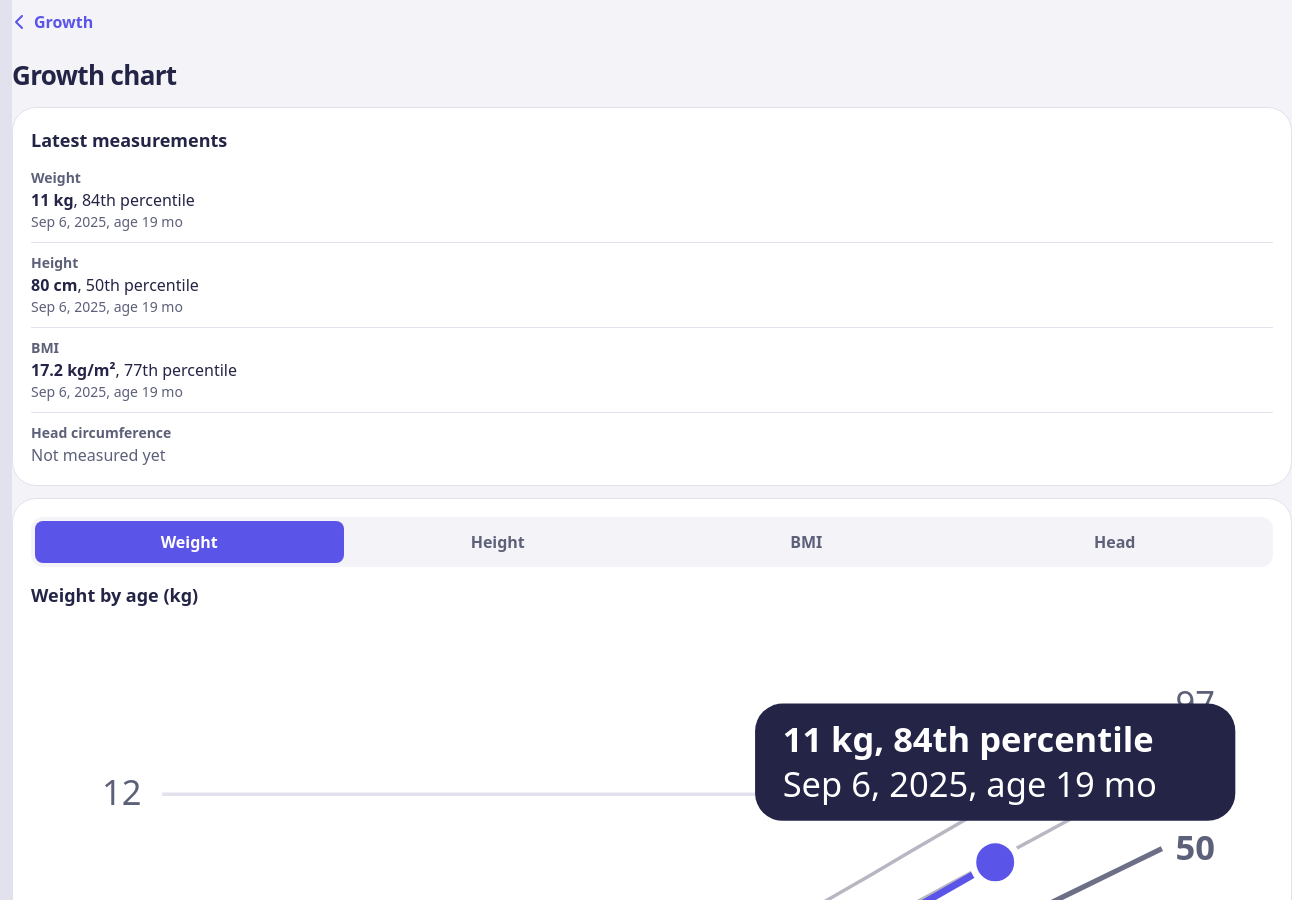
Scenario: GrowthChartPage › switches to another measurement
Click the button "Height".
click(498, 542)  # box [344,521,652,563]
(page scrolled)
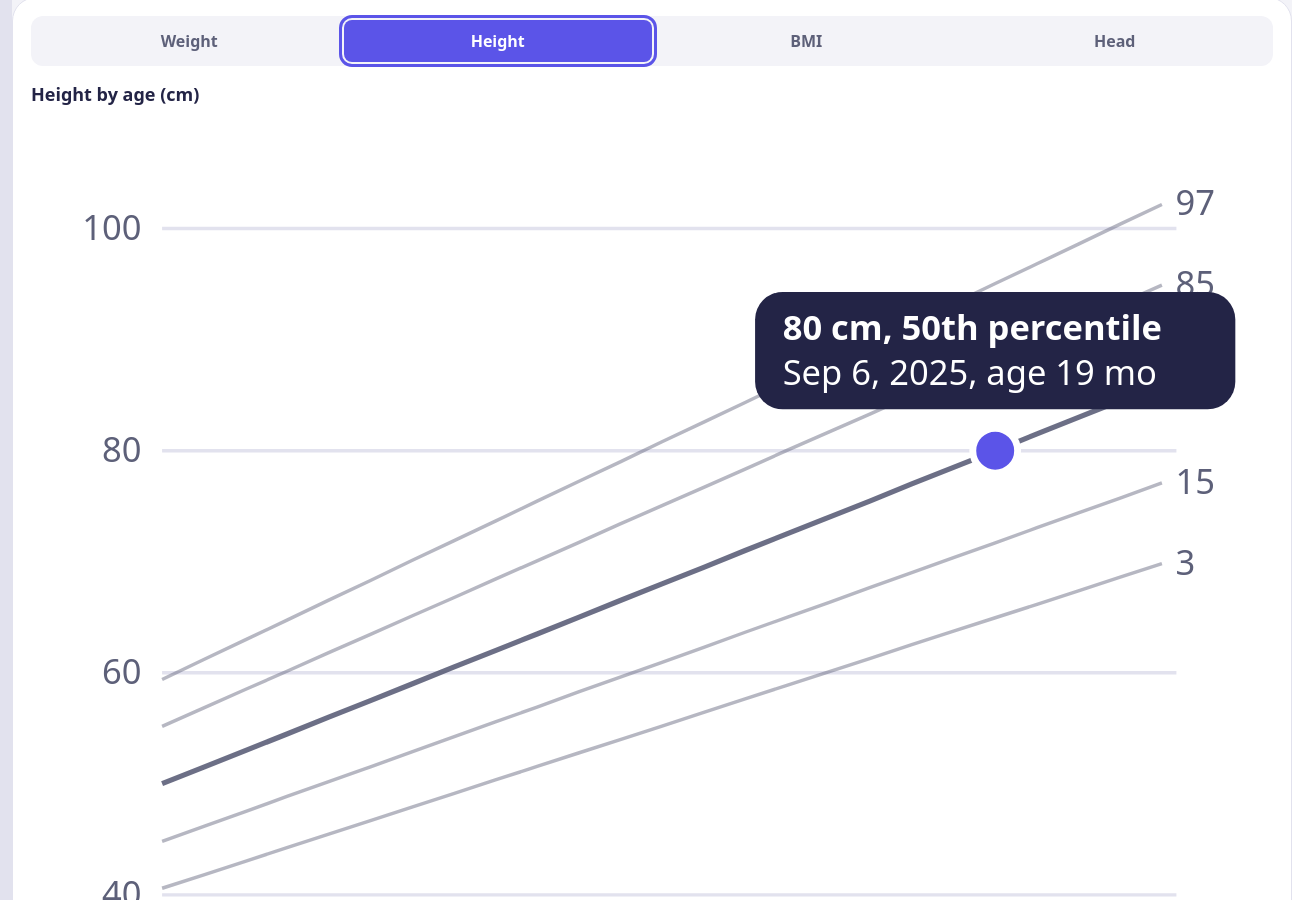
expect the button ": 80 cm, 50th percentile" is shown: met, box [947,402,1044,499]
expect the heading "Height by age (cm)" is shown: met, box [31,82,199,106]
